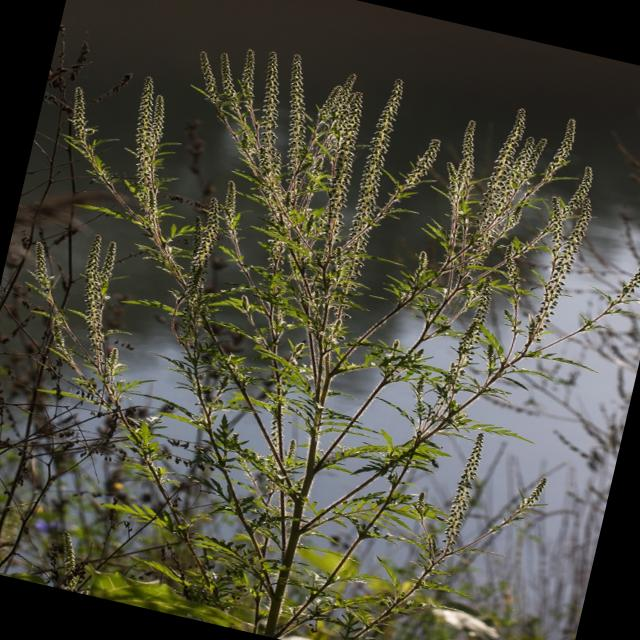ambrosia: (140, 32, 620, 274), (21, 41, 200, 232), (1, 196, 169, 376), (500, 160, 630, 366), (427, 426, 512, 578)
